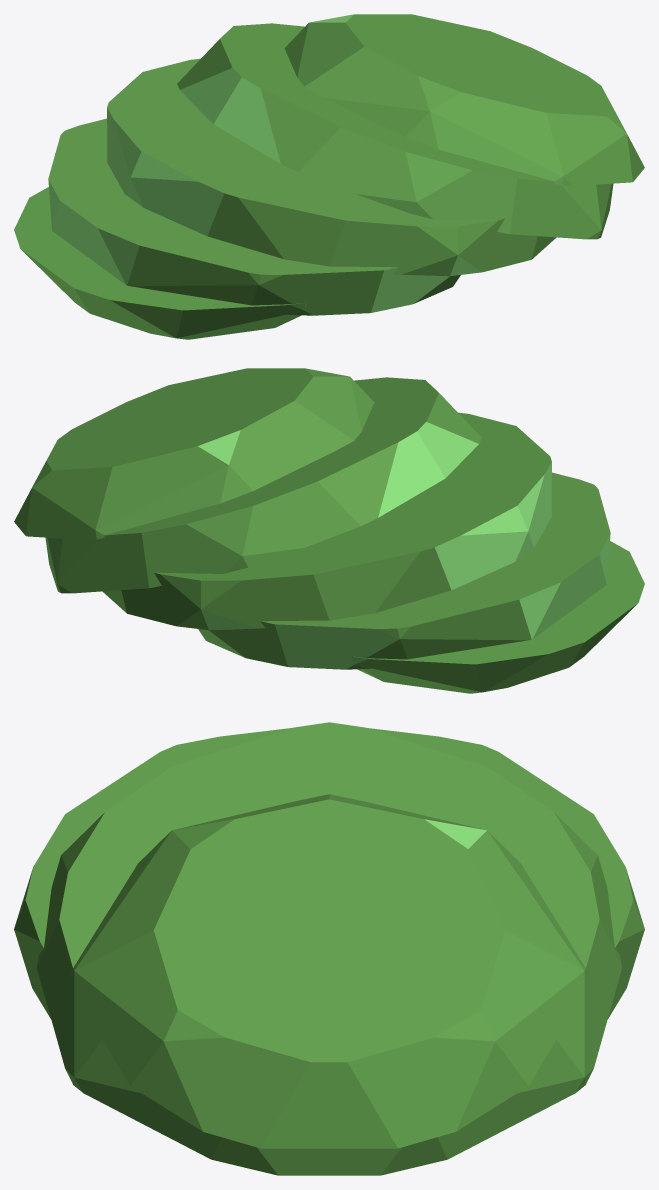
Rendered from LettuceChopped.glb.
3 views of the same model, one above another, from view 1: azimuth 30°, elevation 25°; view 2: azimuth 150°, elevation 25°; view 3: azimuth 270°, elevation 25° (orthographic). The views are drawn at different scales.
Visible parts, largest first — view 1: Icosphere.013; view 2: Icosphere.013; view 3: Icosphere.013.
Part boxes in pixels (bbox=[...]): Icosphere.013: bbox=[14, 14, 644, 339]; Icosphere.013: bbox=[14, 368, 644, 693]; Icosphere.013: bbox=[14, 722, 644, 1175].
Size of the model in its own units: 0.5295 by 0.1728 by 0.394.
